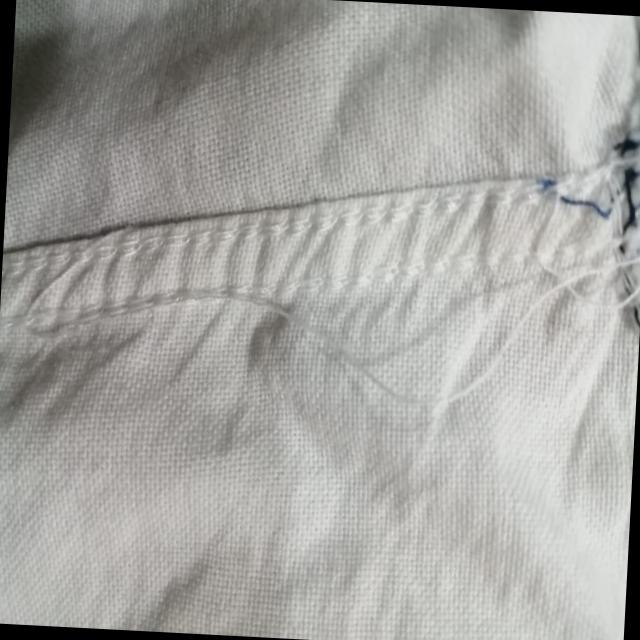gray stitch: (233, 146, 622, 320), (0, 203, 239, 340)
